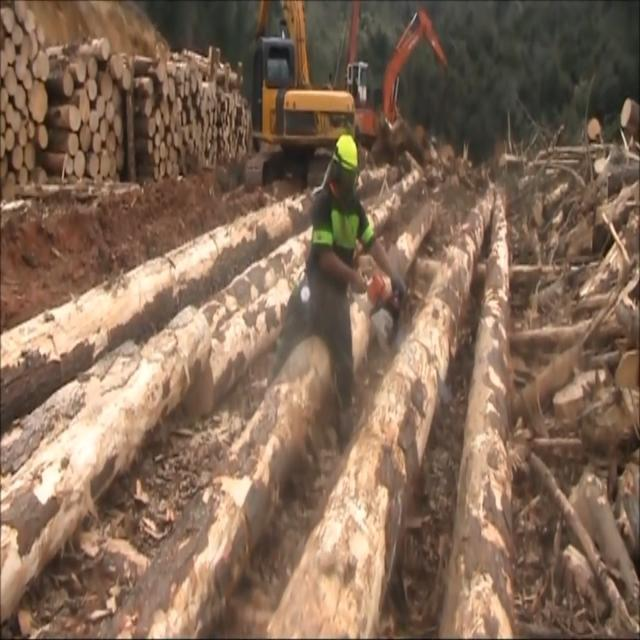Chainsaw: (350, 243, 415, 356)
